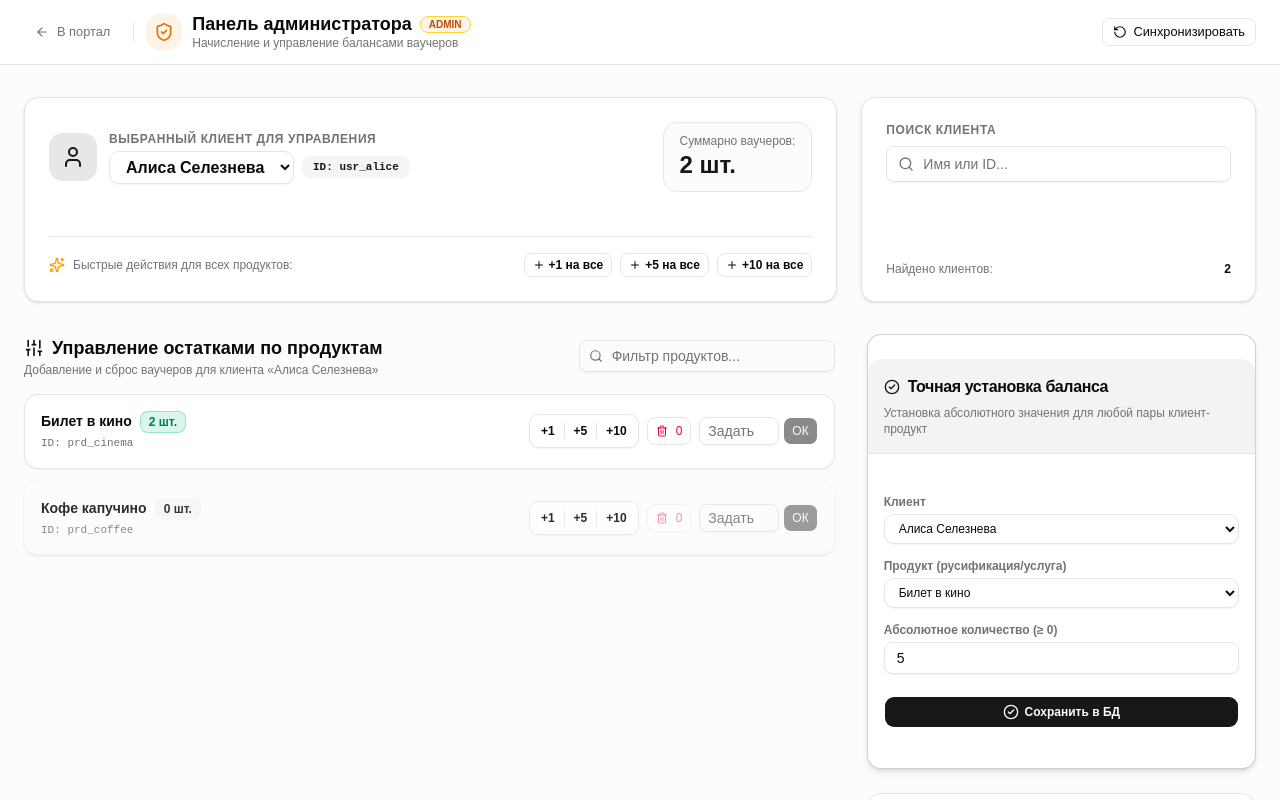
Scenario: AdminPage component › should filter products by search input
expect the heading "Билет в кино" is shown: met, box [41, 412, 132, 432]
Type "кино" into the field with placeholder "Фильтр продуктов..." at (707, 356), box [579, 340, 835, 372]
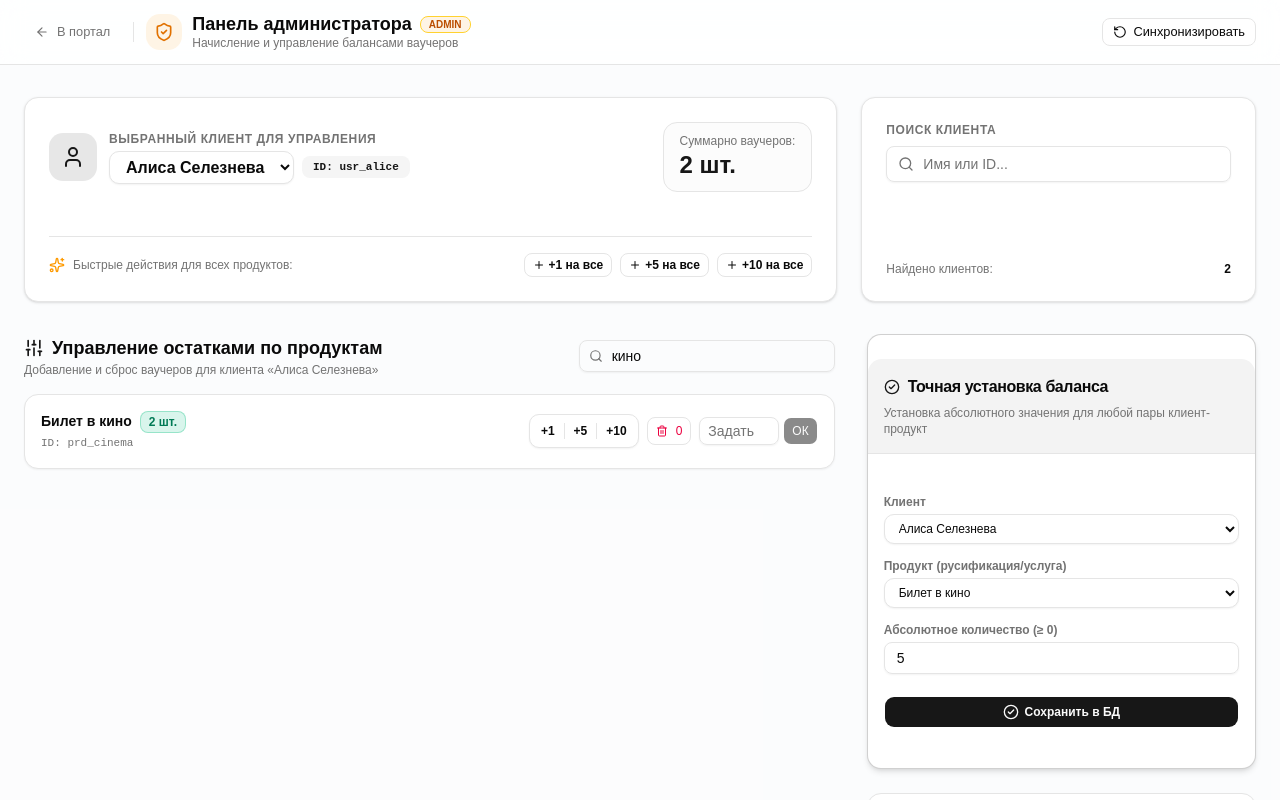
expect the heading "Билет в кино" is shown: met, box [41, 412, 132, 432]
expect the heading "Кофе капучино" is gone: met
